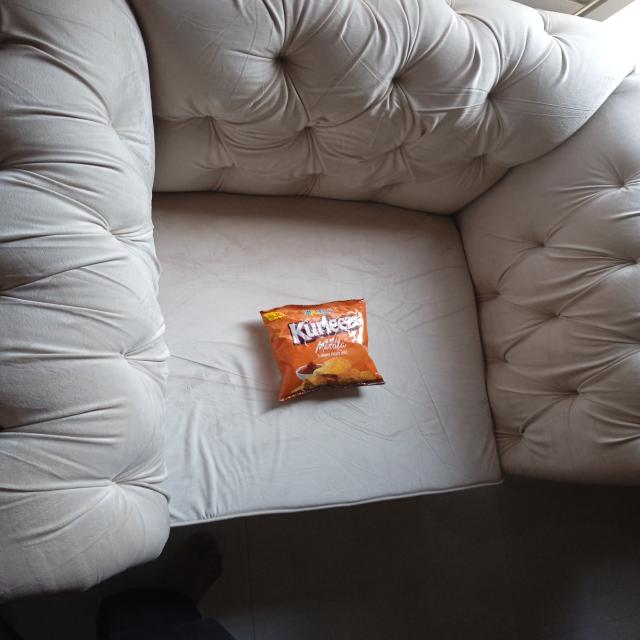Plastic: (252, 297, 396, 408)
